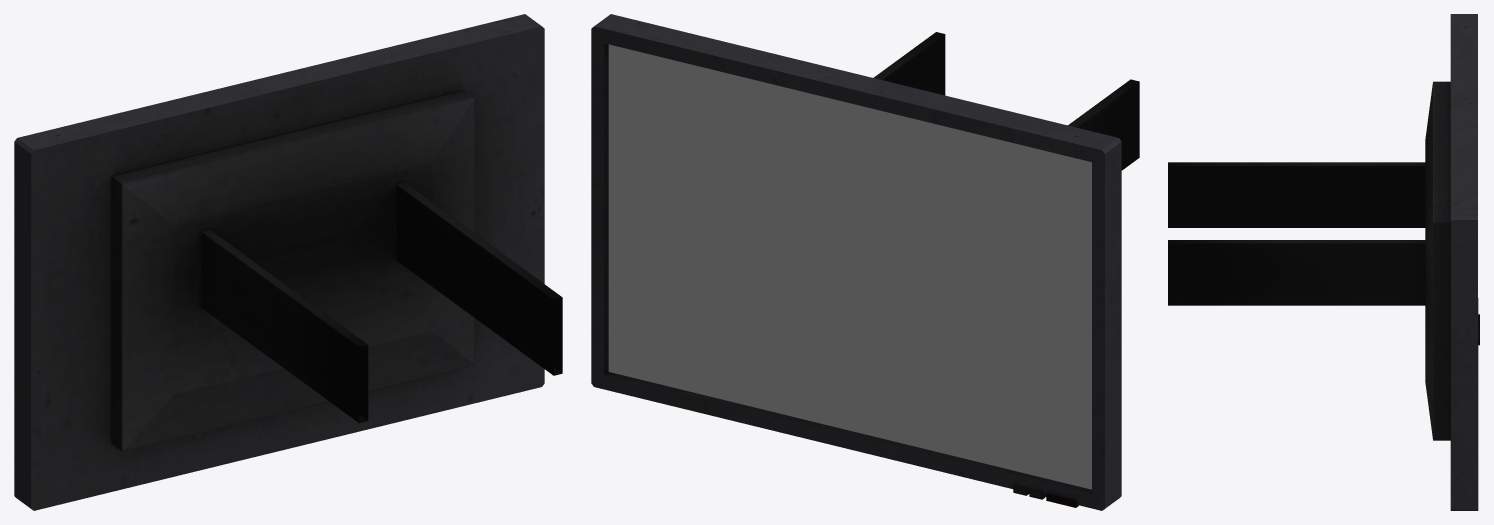
Rendered from SM_Stage_Final_TV_02.fbx.
3 views of the same model, side by side, from view 1: azimuth 30°, elevation 25°; view 2: azimuth 150°, elevation 25°; view 3: azimuth 270°, elevation 25° (orthographic). The views are drawn at different scales.
Parts seen in each view (by area): view 1: SM_Stage_Final_TV_02; view 2: SM_Stage_Final_TV_02_screen, SM_Stage_Final_TV_02; view 3: SM_Stage_Final_TV_02.
Part boxes in pixels (<box>): SM_Stage_Final_TV_02: <box>14,14,562,510</box>; SM_Stage_Final_TV_02_screen: <box>608,44,1091,489</box>; SM_Stage_Final_TV_02: <box>591,14,1139,510</box>; SM_Stage_Final_TV_02: <box>1168,14,1479,510</box>.
Bounding box in the file's own units: 76.12 × 51.41 × 49.03.
Materials: 2 (1 with a texture image).
